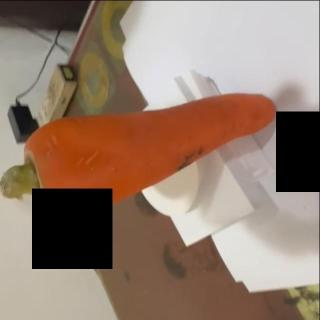carrot: (0, 92, 279, 218)
